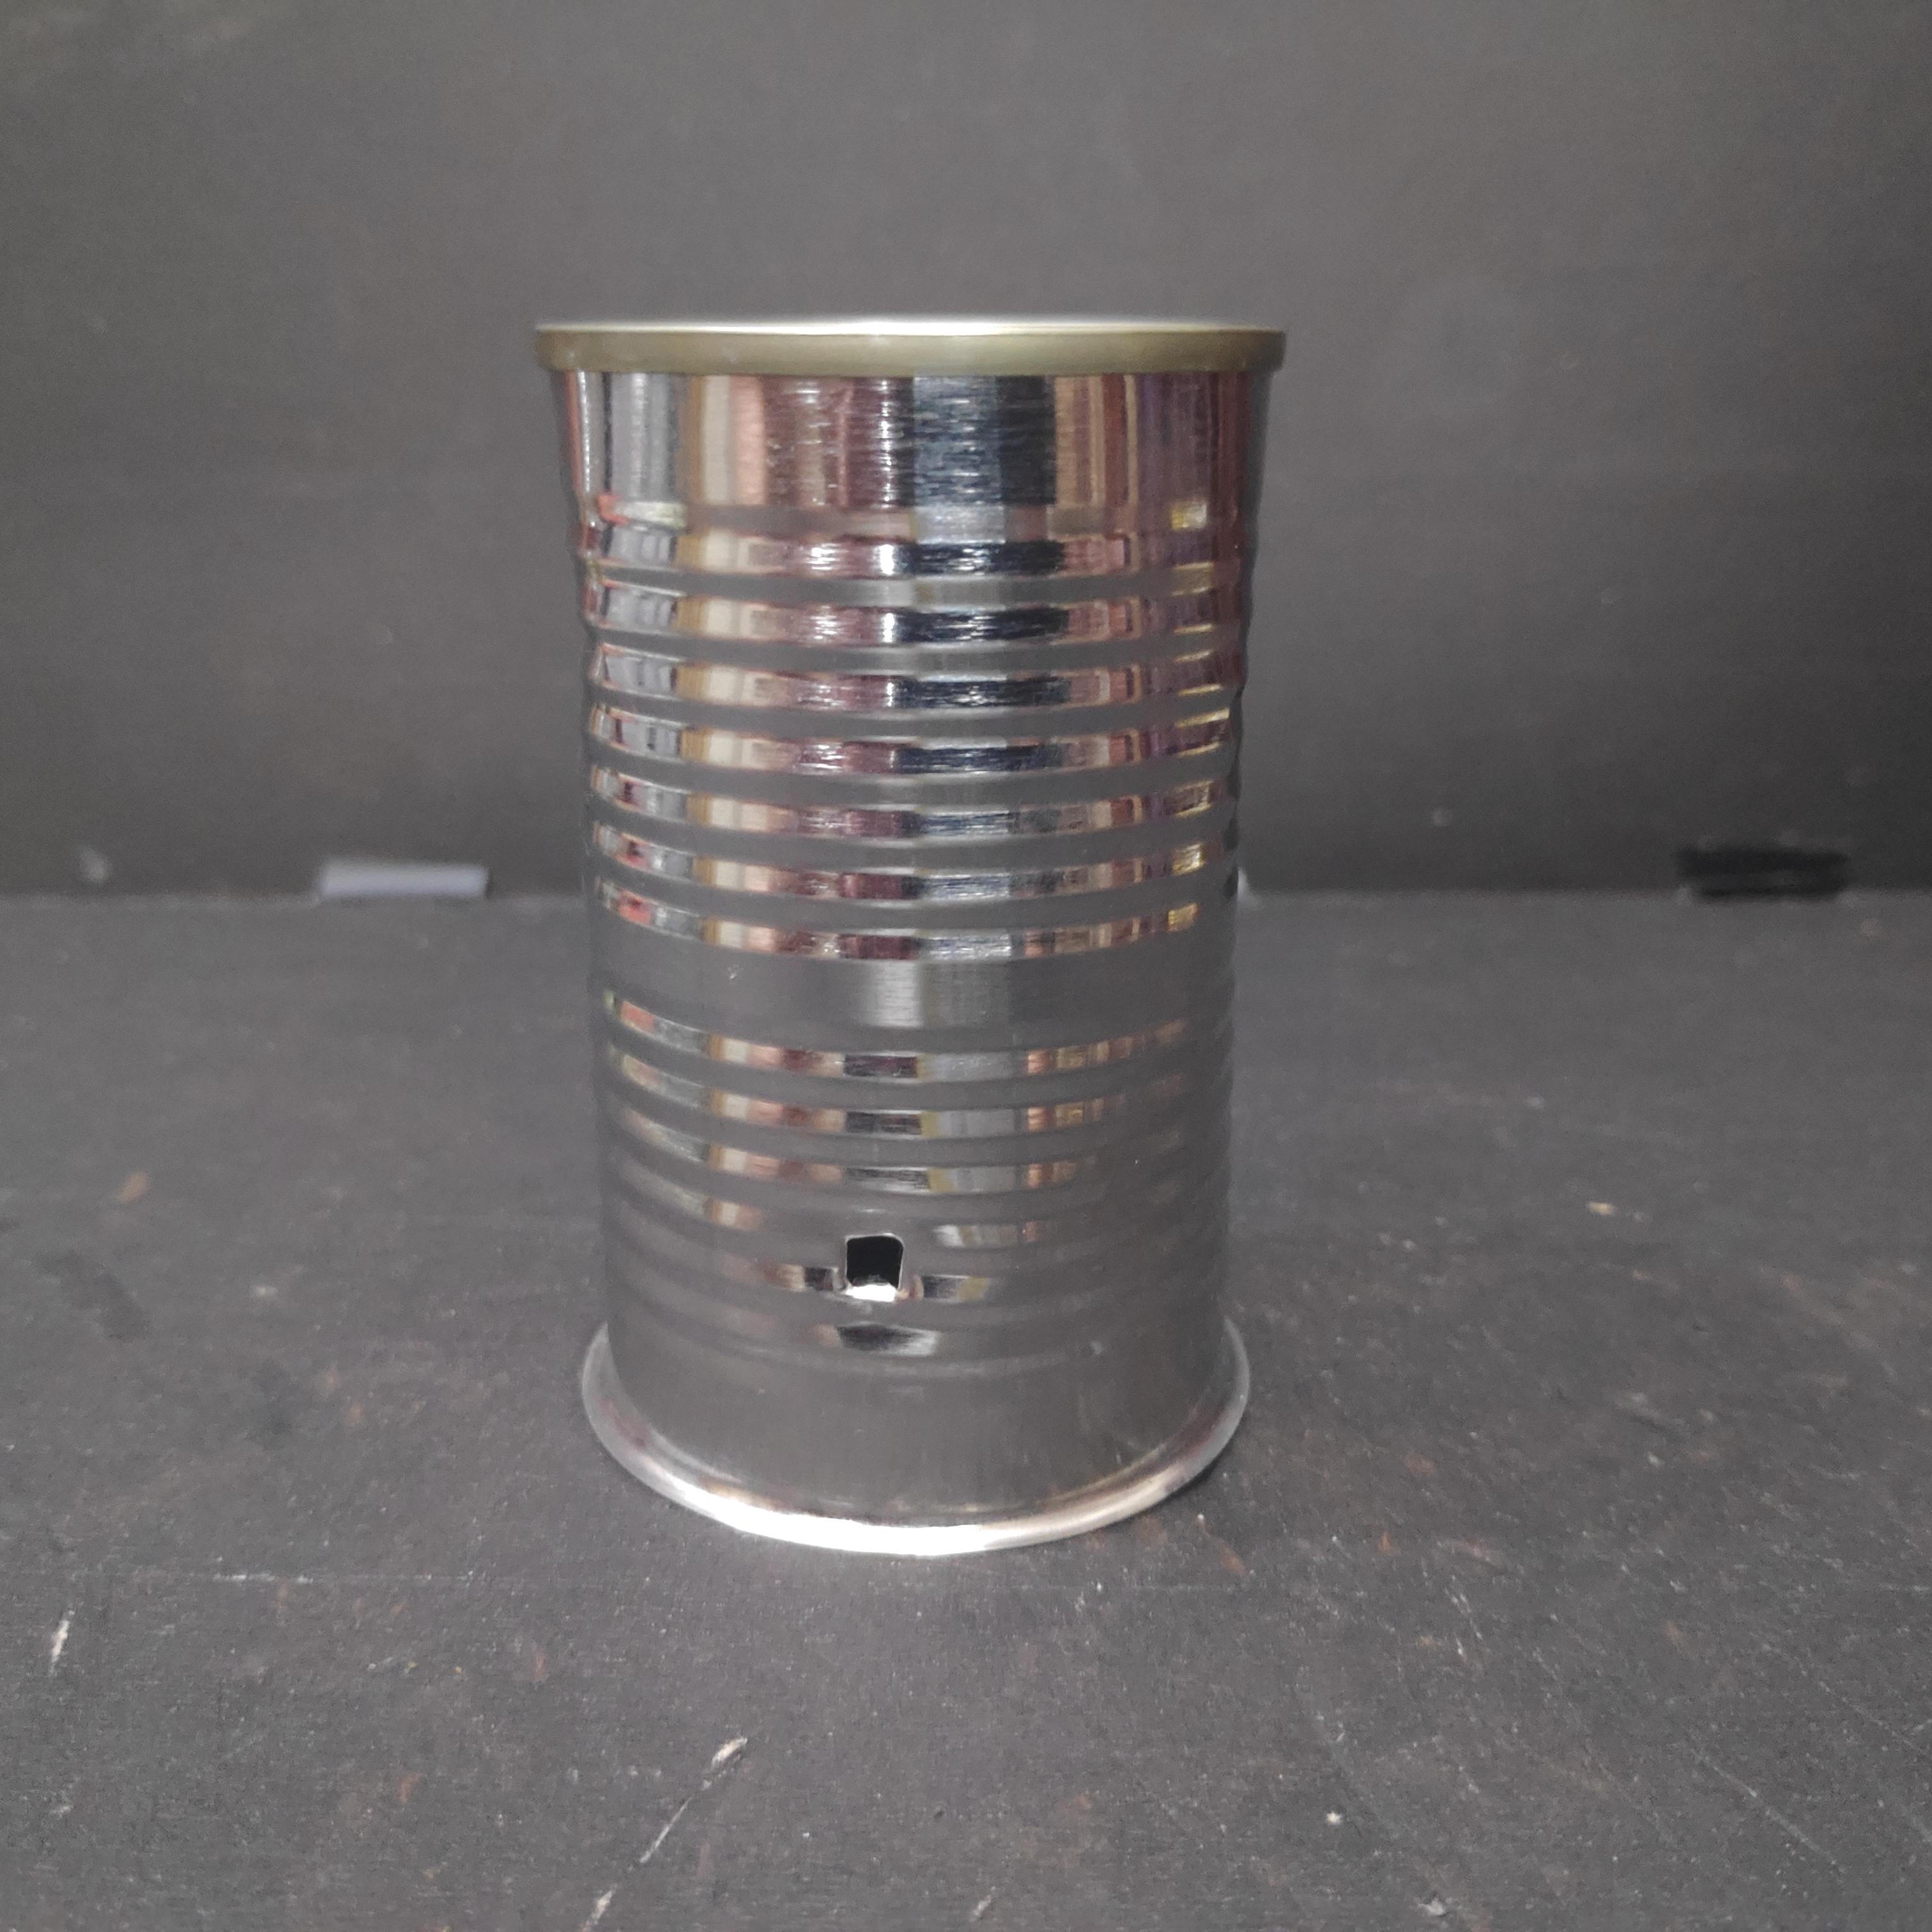Critical Defect: (525, 301, 1293, 1566)
